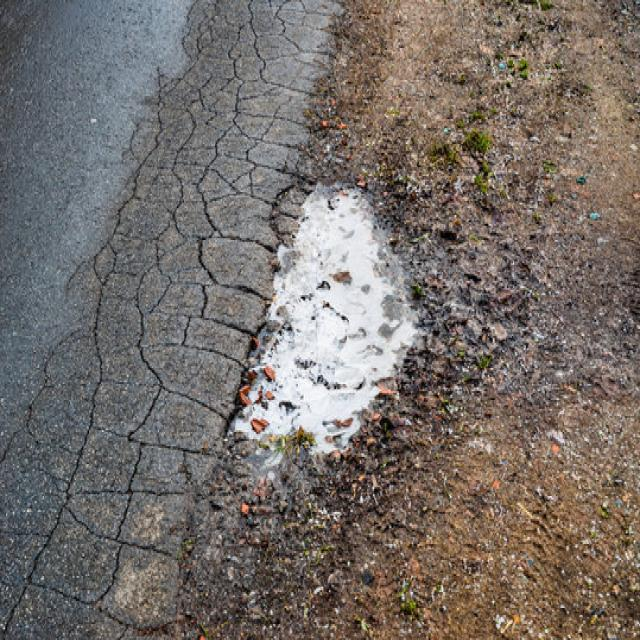Pothole: (206, 0, 477, 640)
